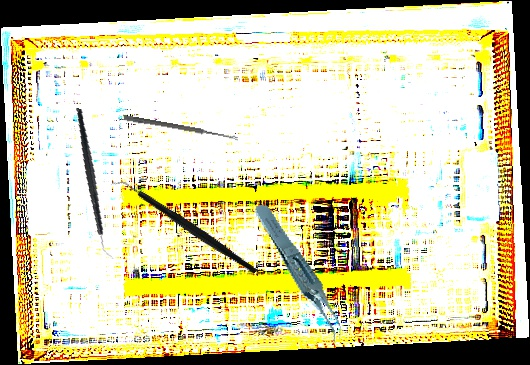Chopper: (109, 143, 259, 312), (50, 107, 140, 260)
Surgical Spoon: (123, 114, 239, 142)
Tissue Forceps: (252, 193, 346, 356)
